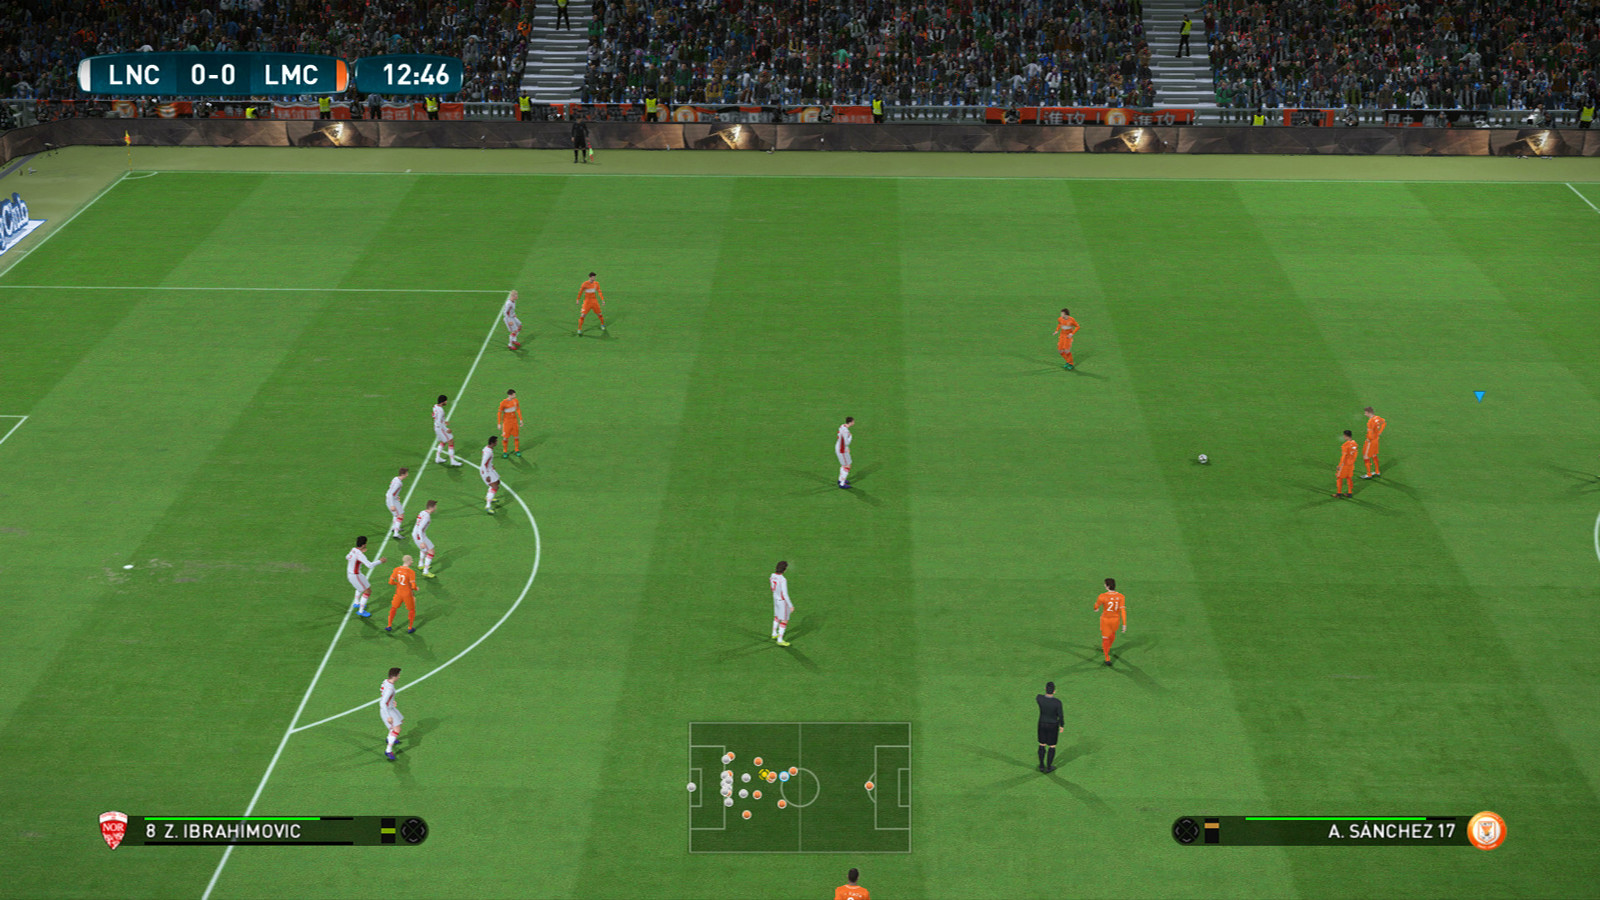ball: (1195, 446, 1209, 469)
player: (382, 555, 421, 636), (425, 391, 461, 471), (342, 535, 376, 620), (377, 665, 407, 762), (570, 267, 610, 336), (495, 386, 530, 460), (1098, 571, 1124, 670), (769, 560, 795, 650), (415, 496, 440, 583), (833, 408, 858, 490), (476, 437, 501, 519), (1052, 306, 1083, 369), (385, 460, 411, 535), (1332, 428, 1356, 500), (1364, 405, 1384, 478), (504, 288, 522, 351)
